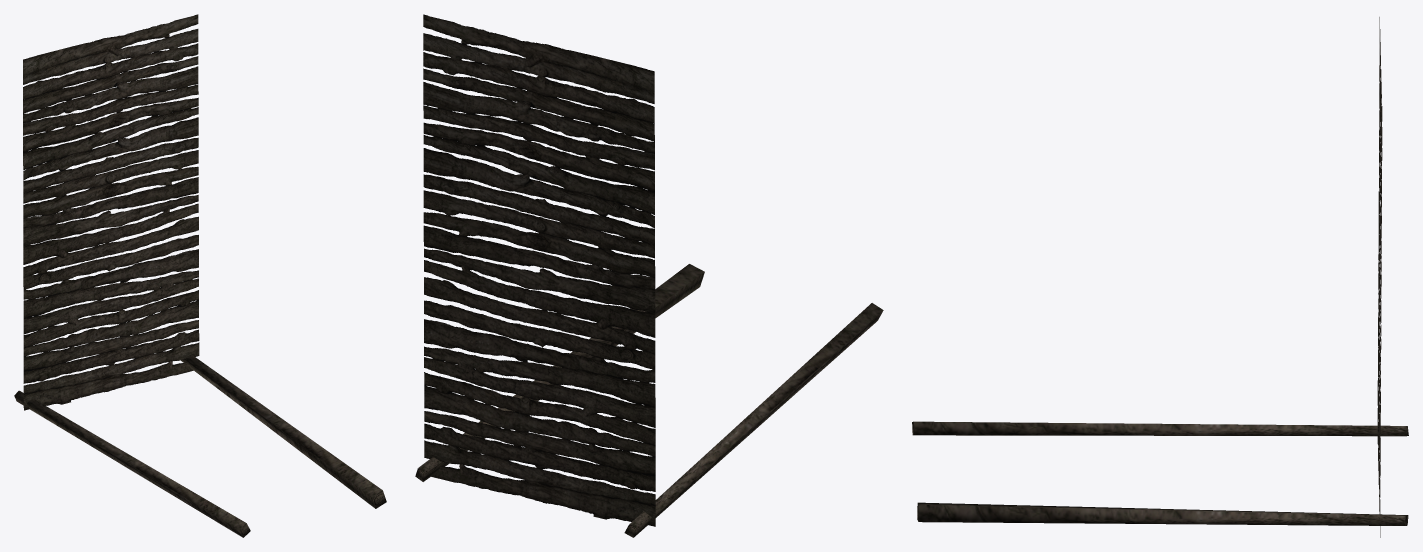
Rendered from MEP_Walk_03_LOD_02.fbx.
The picture shows the model from 3 angles, left to right: view 1: azimuth 30°, elevation 25°; view 2: azimuth 150°, elevation 25°; view 3: azimuth 270°, elevation 25°; orthographic projection. The views are drawn at different scales.
Visible parts, largest first — view 1: MEP_Walk_03_LOD_02; view 2: MEP_Walk_03_LOD_02; view 3: MEP_Walk_03_LOD_02.
Part boxes in pixels (x1=…): MEP_Walk_03_LOD_02: x1=14, y1=14, x2=386, y2=537; MEP_Walk_03_LOD_02: x1=415, y1=14, x2=883, y2=537; MEP_Walk_03_LOD_02: x1=912, y1=17, x2=1408, y2=537.
Size of the model in its own units: 2.69 by 5.19 by 5.5.
